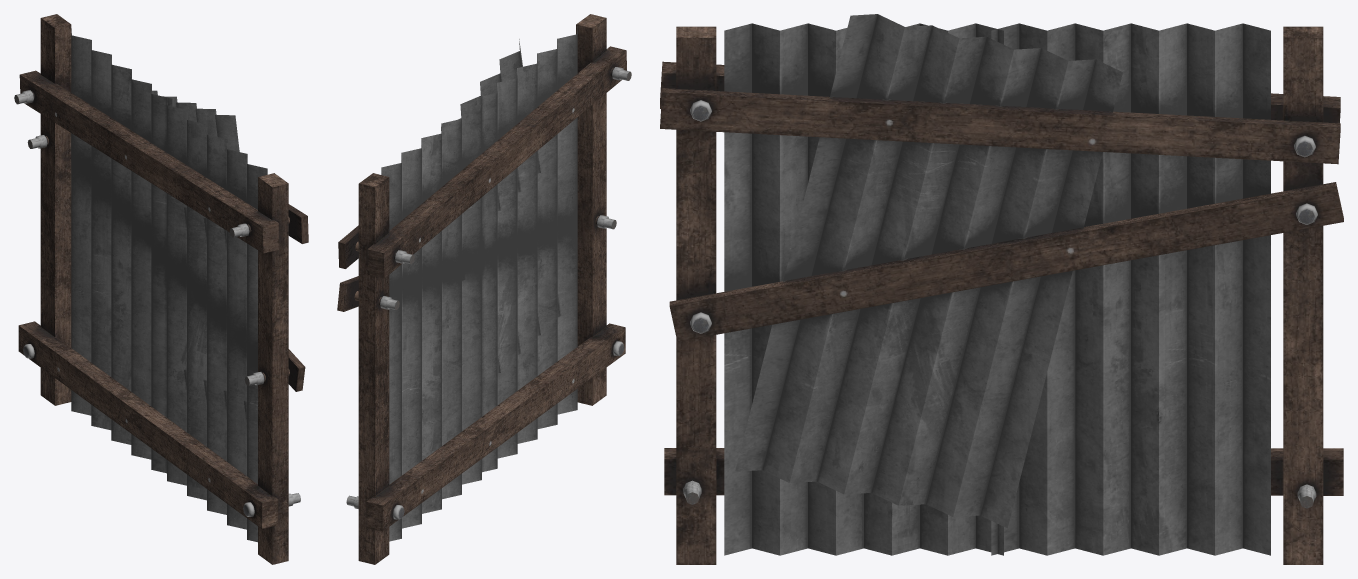
3 renders of one model, left to right at view 1: azimuth 30°, elevation 25°; view 2: azimuth 150°, elevation 25°; view 3: azimuth 270°, elevation 25°, orthographic. The views are drawn at different scales.
Visible parts, largest first — view 1: Tin_fence; view 2: Tin_fence; view 3: Tin_fence.
Boxes of the visible parts, x1=… form: Tin_fence: x1=14, y1=14, x2=308, y2=564; Tin_fence: x1=337, y1=14, x2=631, y2=564; Tin_fence: x1=660, y1=14, x2=1343, y2=564.
Size of the model in its own units: 2.56 by 14.2 by 15.84.
Materials: 1 (1 with a texture image).
